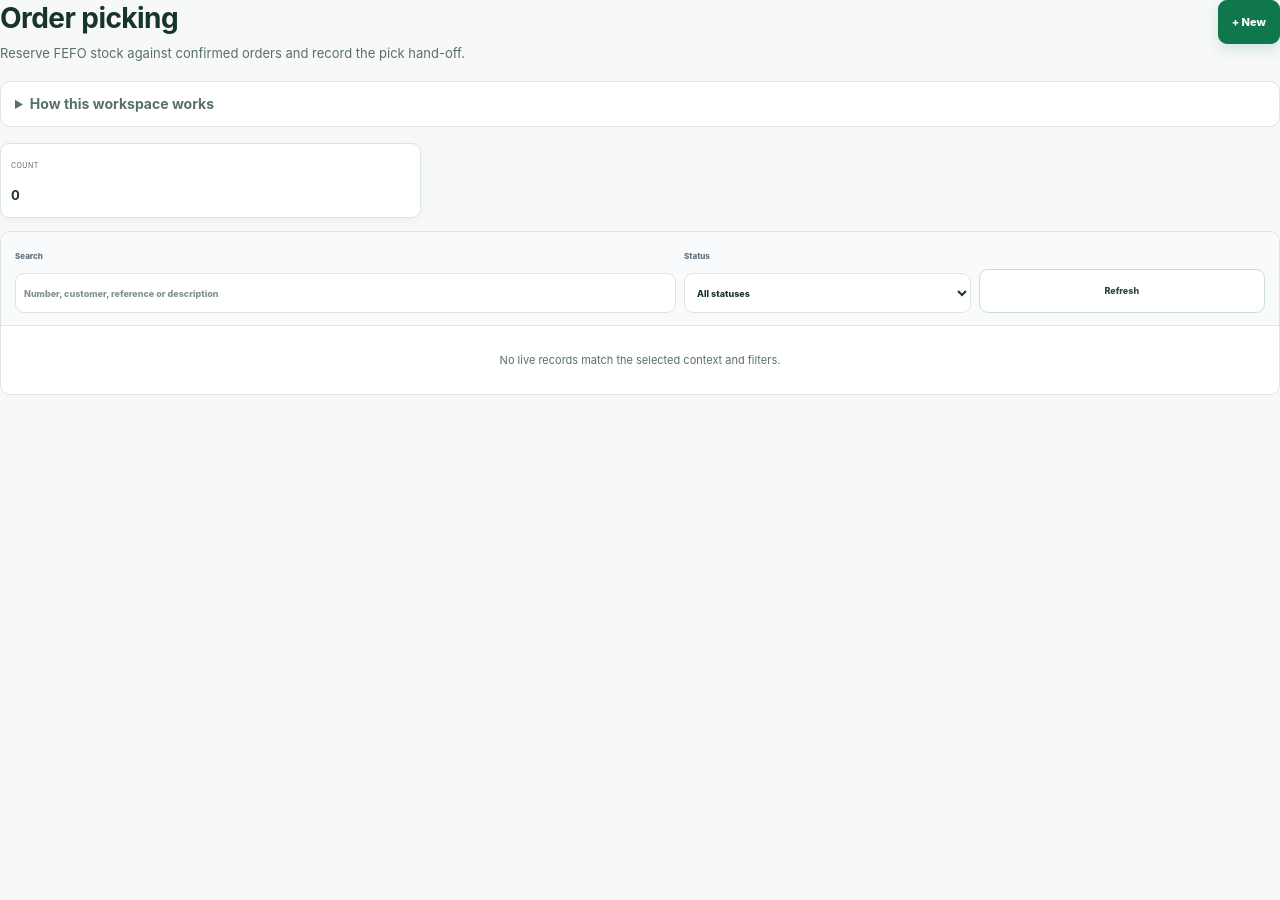
P2 commercial and finance workspaces › shows the exact allocation failure instead of claiming an invisible field is highlighted
The width and height of the screenshot is (1280, 900).
Click the button "+ New". click: (1249, 22)
box: [1218, 0, 1279, 44]
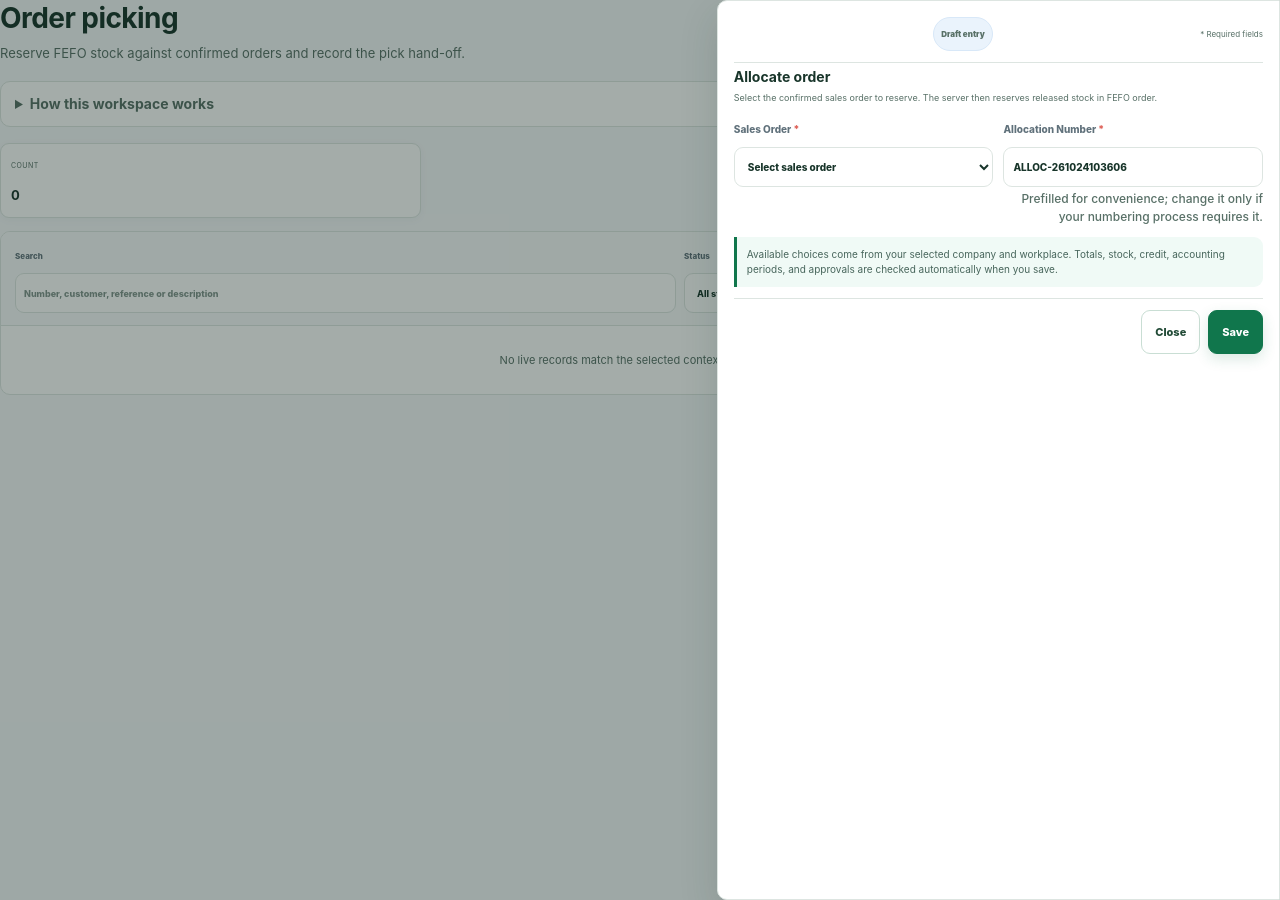
Select "SO-UI-001 · Adnan Traders" in the dropdown labelled "Sales Order". click: (864, 166)
box: [734, 146, 993, 186]
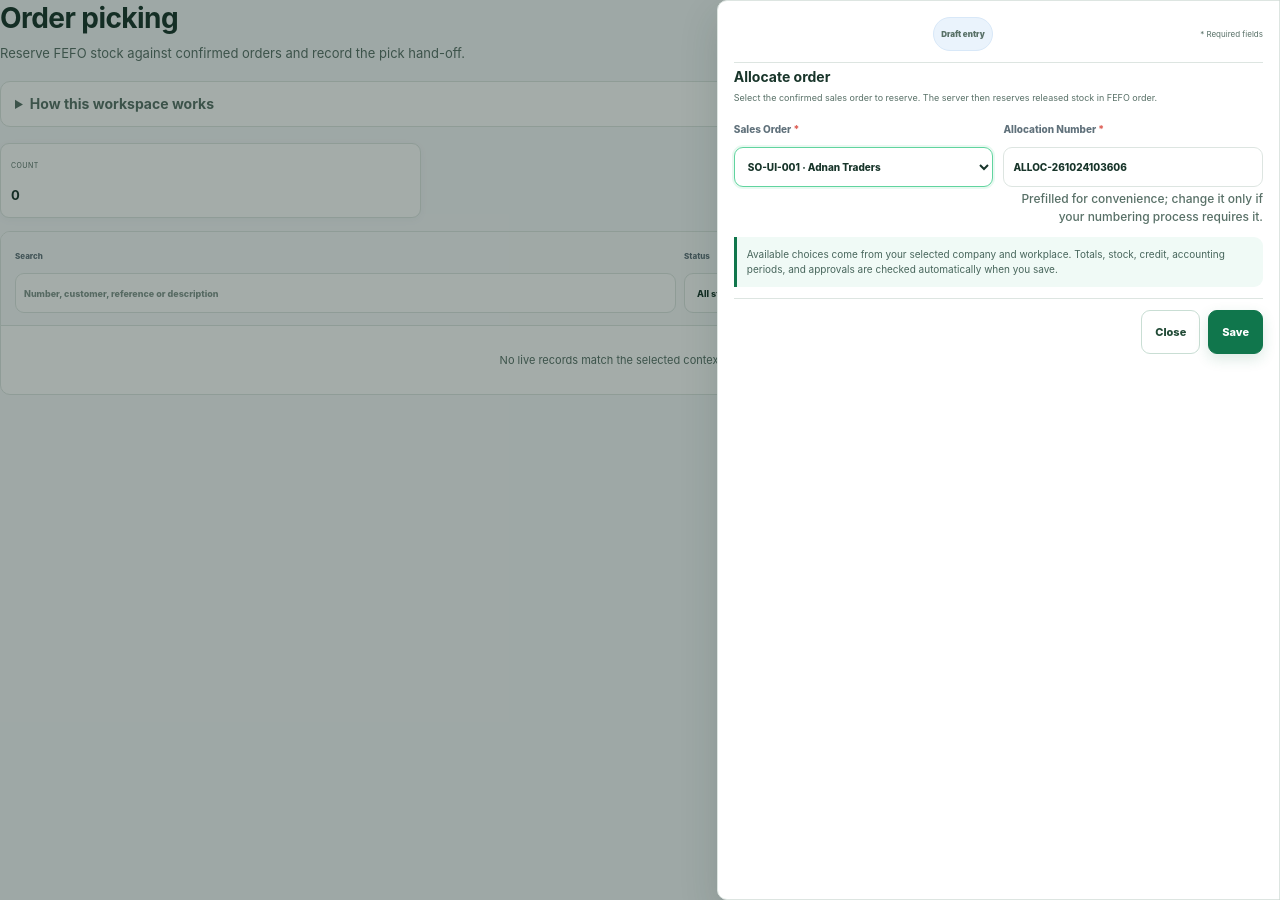
Click the button "Save". click: (1236, 332)
box: [1208, 310, 1263, 354]
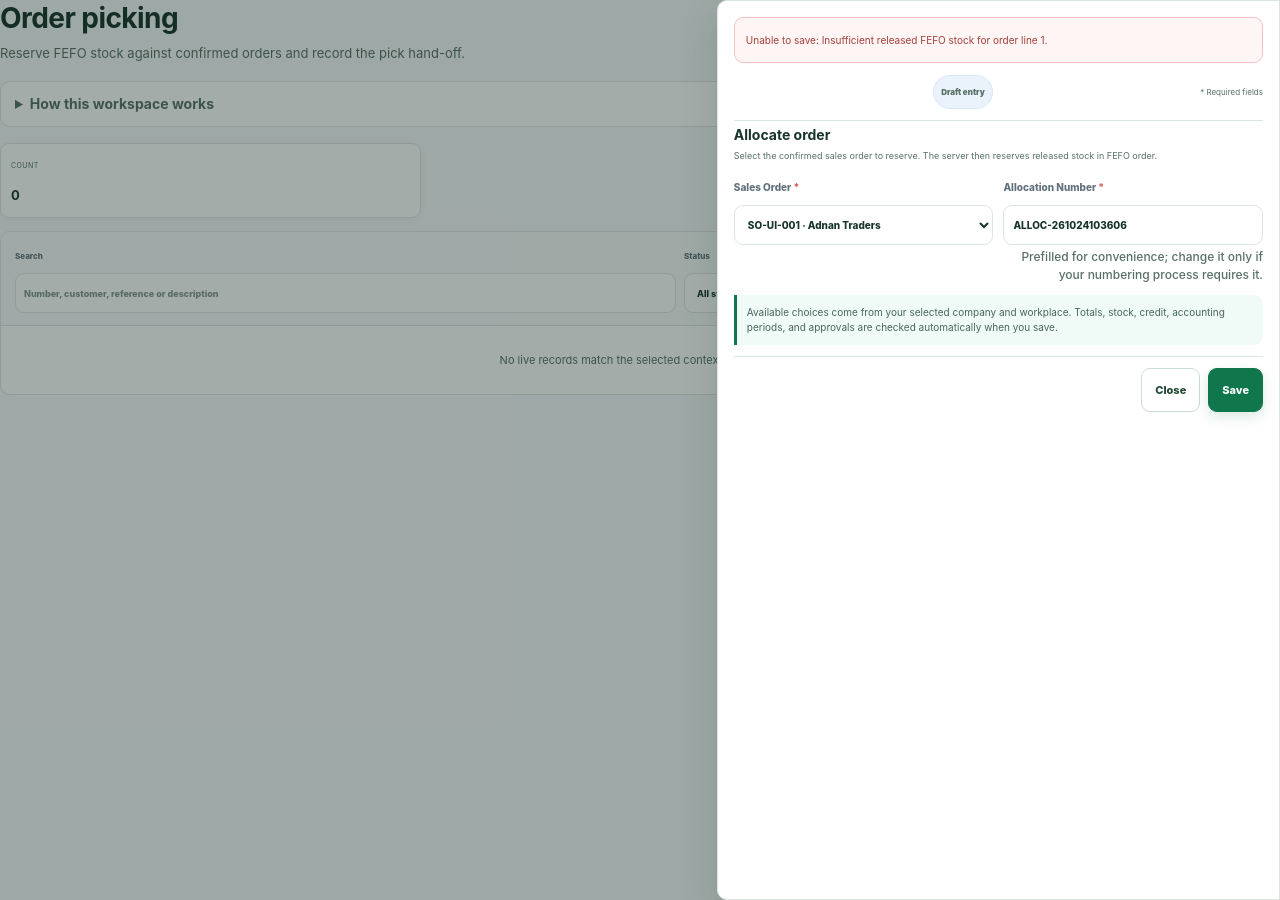
Expected: the message does not show "Check the highlighted field", [734, 17, 1263, 63]
Expected: the message shows "Insufficient released FEFO stock for order line 1.", [746, 34, 1047, 46]
